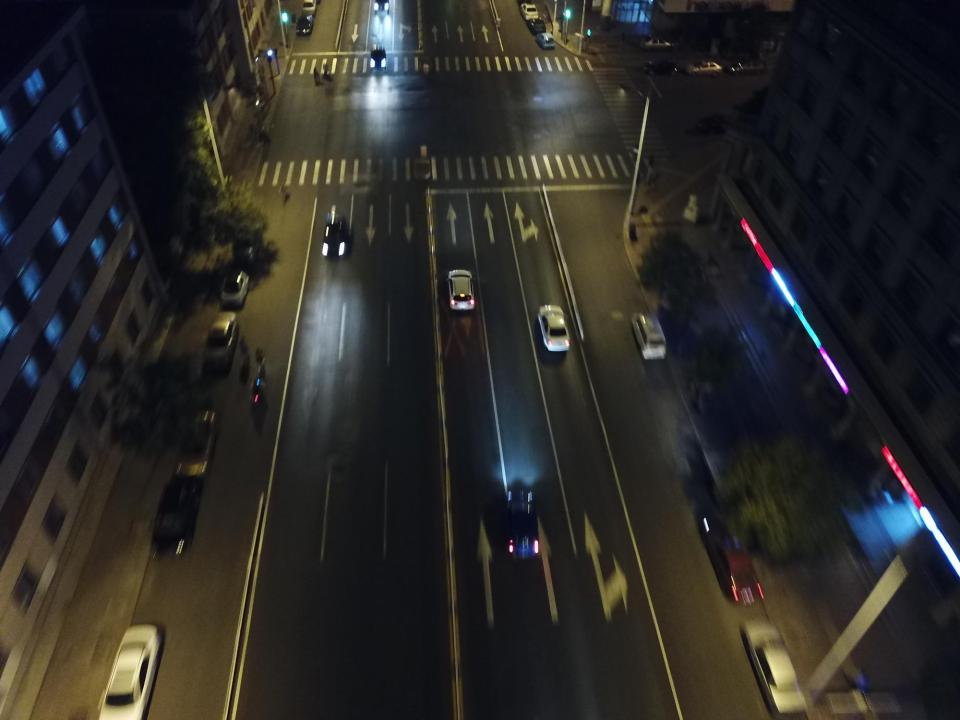car: (742, 618, 807, 715), (98, 624, 162, 720), (701, 518, 764, 604), (152, 477, 201, 555), (174, 410, 218, 478), (506, 489, 538, 560), (205, 312, 238, 369), (538, 304, 570, 351), (446, 269, 474, 309), (322, 215, 345, 256), (696, 113, 736, 132), (686, 59, 723, 77), (643, 60, 680, 76), (727, 59, 764, 75), (370, 44, 387, 67), (296, 14, 314, 34), (640, 37, 672, 48), (520, 3, 538, 20), (536, 33, 555, 46)
truck: (232, 221, 262, 266)
van: (631, 312, 665, 360), (220, 270, 249, 306), (527, 18, 545, 32)
